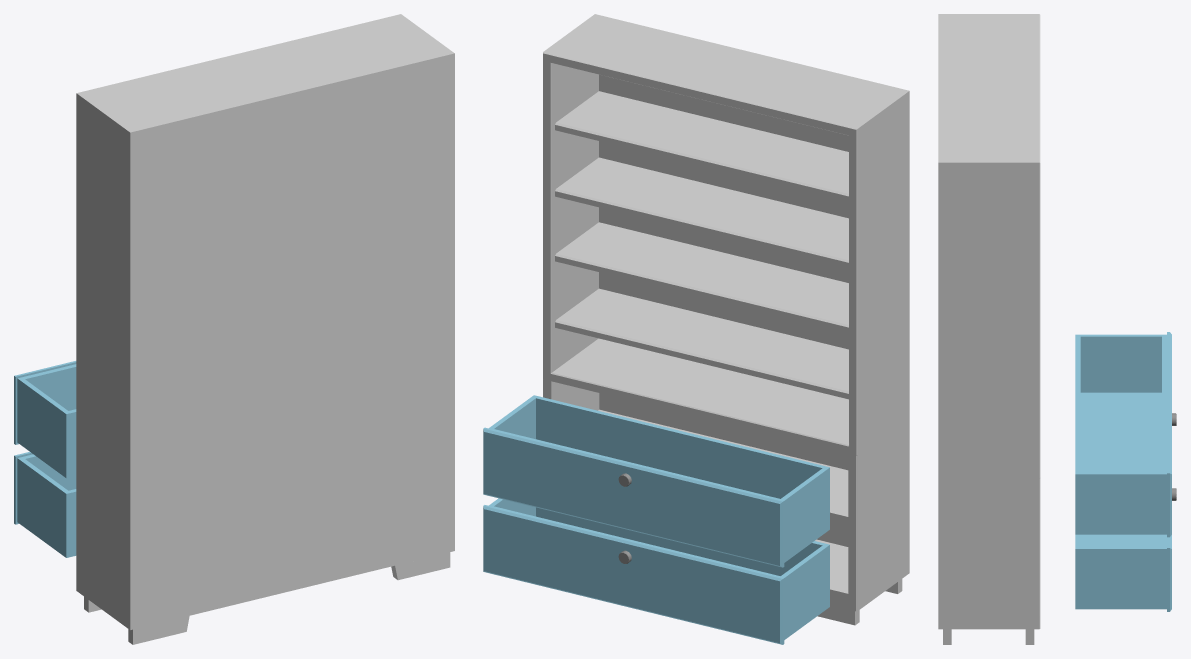
File: FURNITURE_shelf_02.FBX
The picture shows the model from 3 angles, left to right: view 1: azimuth 30°, elevation 25°; view 2: azimuth 150°, elevation 25°; view 3: azimuth 270°, elevation 25°; orthographic projection. The views are drawn at different scales.
Visible parts, largest first — view 1: FURNITURE_shelf_02_base, FURNITURE_shelf_02_drawer_01_inside, FURNITURE_shelf_02_drawer_02_inside; view 2: FURNITURE_shelf_02_base, FURNITURE_shelf_02_drawer_01, FURNITURE_shelf_02_drawer_02, FURNITURE_shelf_02_drawer_01_inside, FURNITURE_shelf_02_inside, FURNITURE_shelf_02_drawer_02_inside; view 3: FURNITURE_shelf_02_base, FURNITURE_shelf_02_drawer_01_inside, FURNITURE_shelf_02_drawer_02_inside, FURNITURE_shelf_02_drawer_01, FURNITURE_shelf_02_drawer_02.
Part boxes in pixels (left/top/right/bottom): FURNITURE_shelf_02_base: left=76, top=14, right=454, bottom=644; FURNITURE_shelf_02_drawer_01_inside: left=15, top=362, right=76, bottom=478; FURNITURE_shelf_02_drawer_02_inside: left=15, top=453, right=76, bottom=557; FURNITURE_shelf_02_base: left=543, top=14, right=909, bottom=625; FURNITURE_shelf_02_drawer_01: left=483, top=427, right=784, bottom=567; FURNITURE_shelf_02_drawer_02: left=483, top=505, right=784, bottom=644; FURNITURE_shelf_02_drawer_01_inside: left=489, top=395, right=829, bottom=562; FURNITURE_shelf_02_inside: left=551, top=381, right=848, bottom=593; FURNITURE_shelf_02_drawer_02_inside: left=489, top=498, right=829, bottom=639; FURNITURE_shelf_02_base: left=938, top=14, right=1040, bottom=644; FURNITURE_shelf_02_drawer_01_inside: left=1075, top=334, right=1166, bottom=534; FURNITURE_shelf_02_drawer_02_inside: left=1075, top=534, right=1166, bottom=609; FURNITURE_shelf_02_drawer_01: left=1167, top=332, right=1176, bottom=537; FURNITURE_shelf_02_drawer_02: left=1167, top=488, right=1176, bottom=611.
Bounding box in the file's own units: 164 × 248 × 111.
